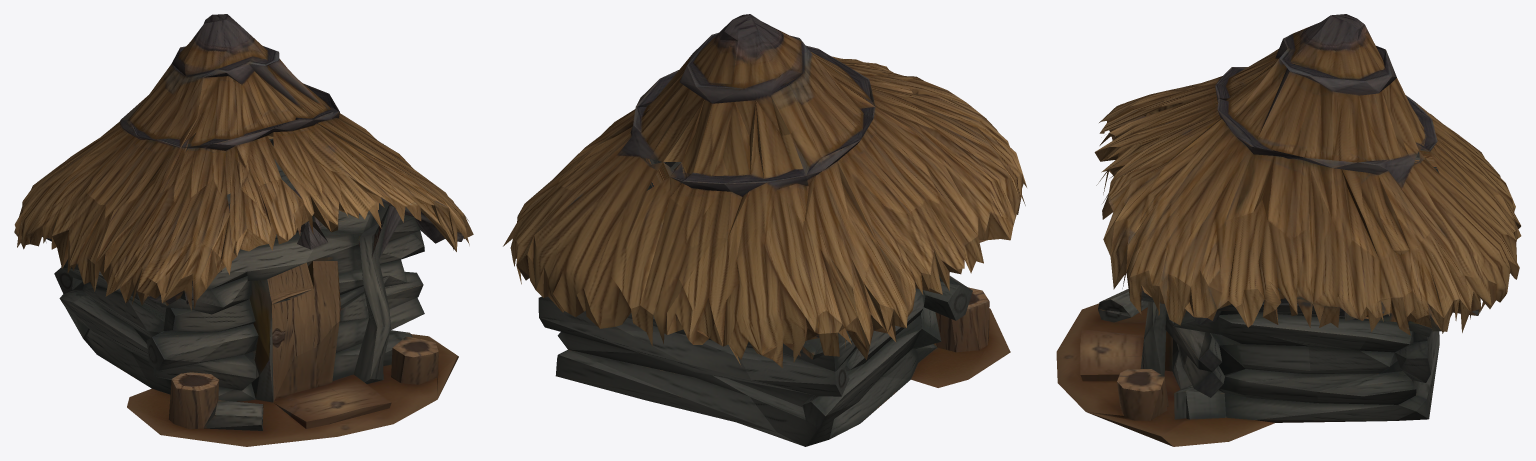
The model's file is cabana.glb.
The picture shows the model from 3 angles, left to right: view 1: azimuth 30°, elevation 25°; view 2: azimuth 150°, elevation 25°; view 3: azimuth 270°, elevation 25°; orthographic projection. The views are drawn at different scales.
Bounding box in the file's own units: 1.75 × 1.55 × 1.88.
1 material, 1 textured.
